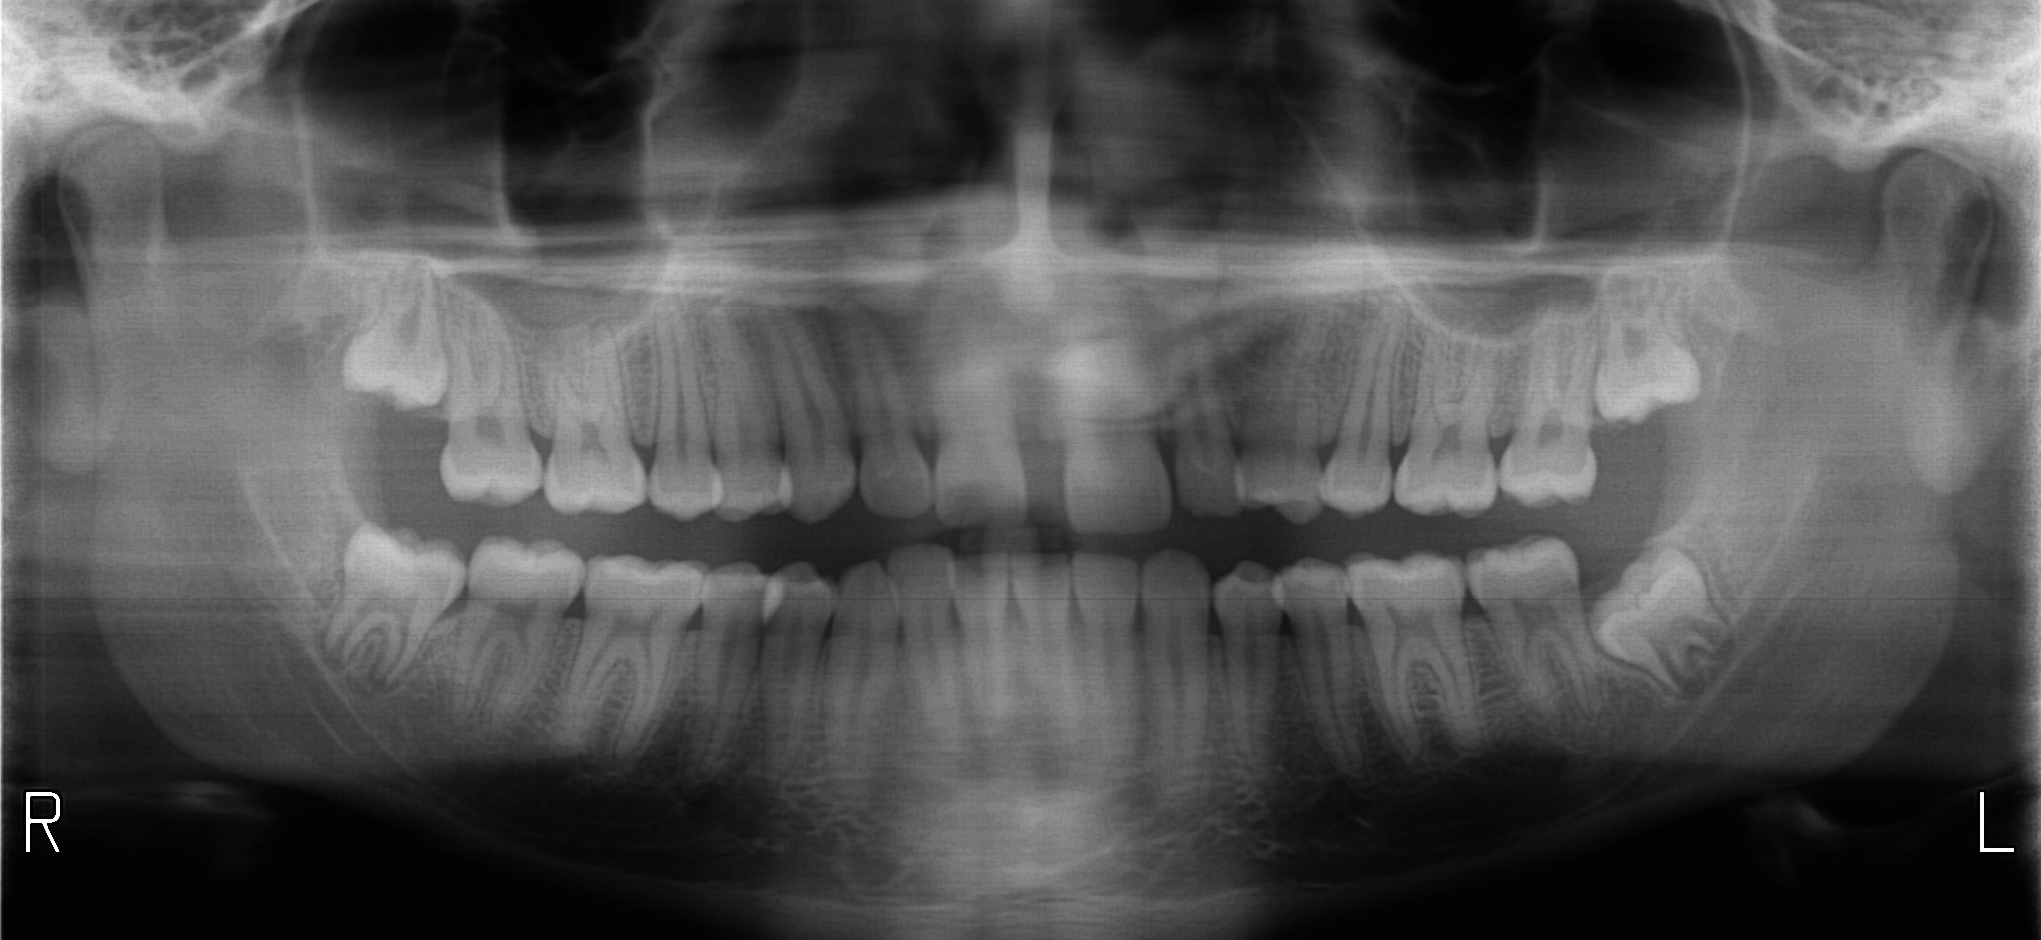cavity: (772, 447, 781, 454)
